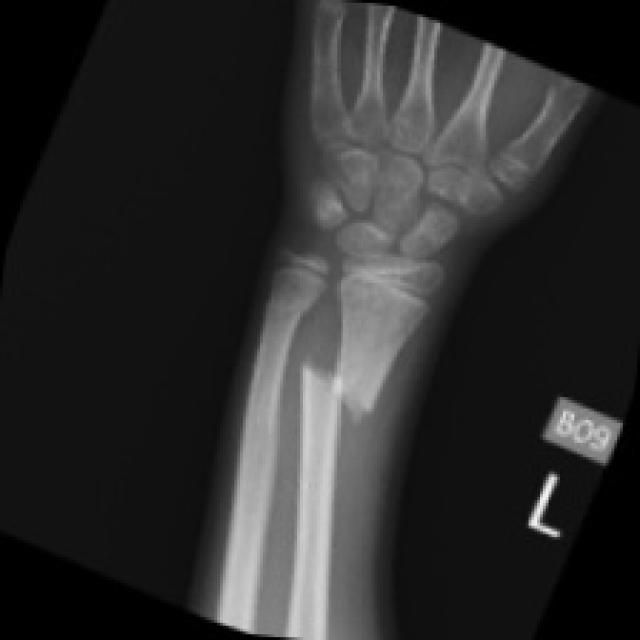fracture: (272, 329, 410, 442)
